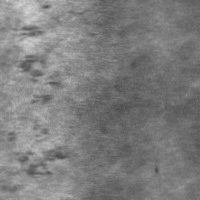rolled-in_scale: (13, 36, 70, 178), (5, 1, 83, 34)
